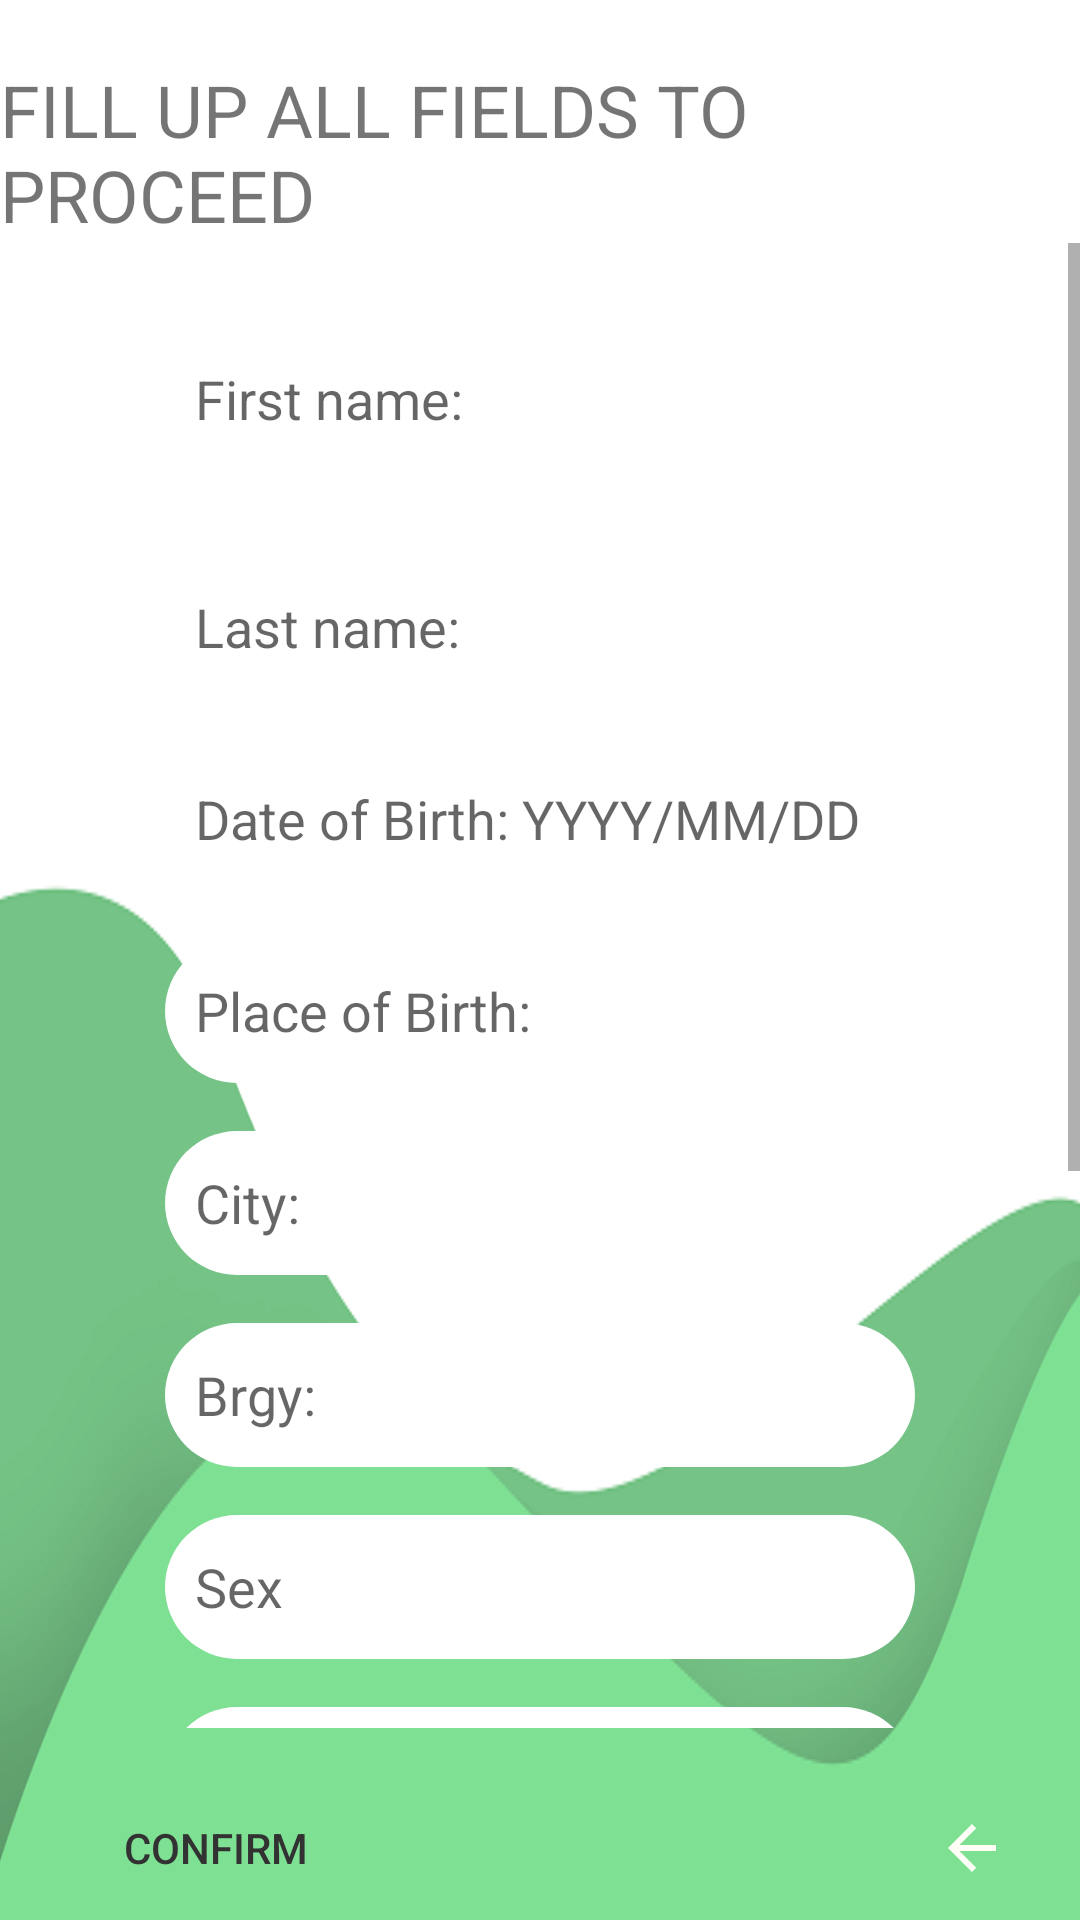

Icon click points for this 1080 × 1920 phone screenshot, format point (x, y):
arrow back: point (972, 1848)
